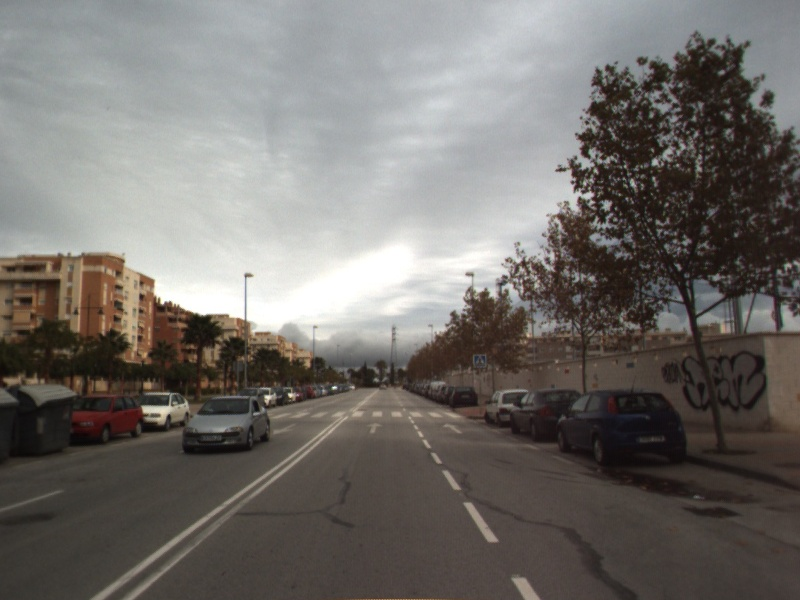STRAIGHT: (441, 421, 465, 435), (365, 420, 385, 434)
